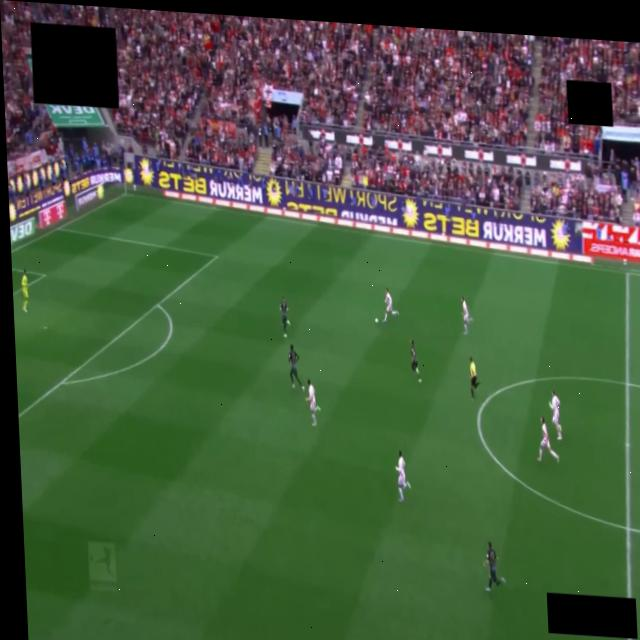ball: (375, 318, 377, 323)
player: (484, 542, 505, 592), (536, 417, 558, 462), (396, 450, 410, 501), (288, 345, 303, 390), (305, 379, 319, 426), (548, 391, 561, 440), (383, 289, 398, 323), (410, 340, 421, 382), (280, 297, 290, 337), (461, 297, 471, 333), (20, 270, 27, 312)
referee: (469, 358, 479, 399)
